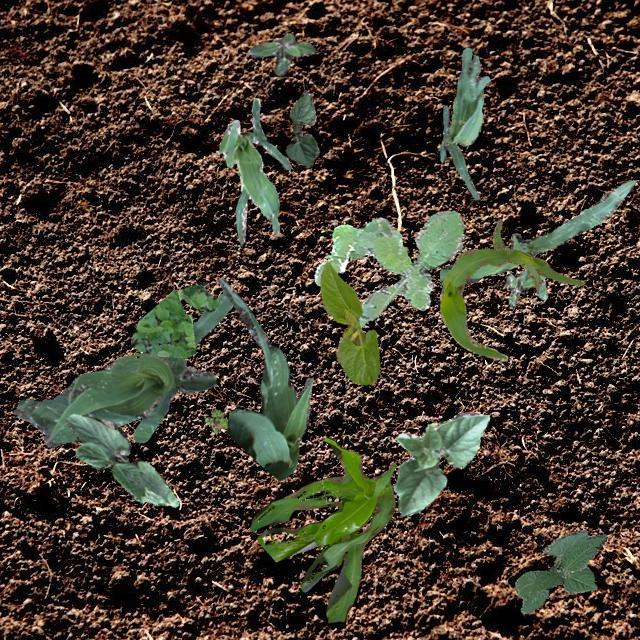crop: (12, 290, 232, 446), (248, 436, 394, 622), (438, 218, 584, 359), (438, 178, 634, 282), (216, 276, 312, 479), (217, 96, 290, 245), (66, 412, 178, 507), (392, 410, 488, 516), (514, 528, 606, 614), (438, 46, 488, 198), (320, 260, 380, 384), (284, 88, 318, 166)
weed: (314, 210, 464, 326), (130, 282, 216, 356), (248, 32, 314, 74), (506, 268, 546, 306), (204, 408, 228, 434)
